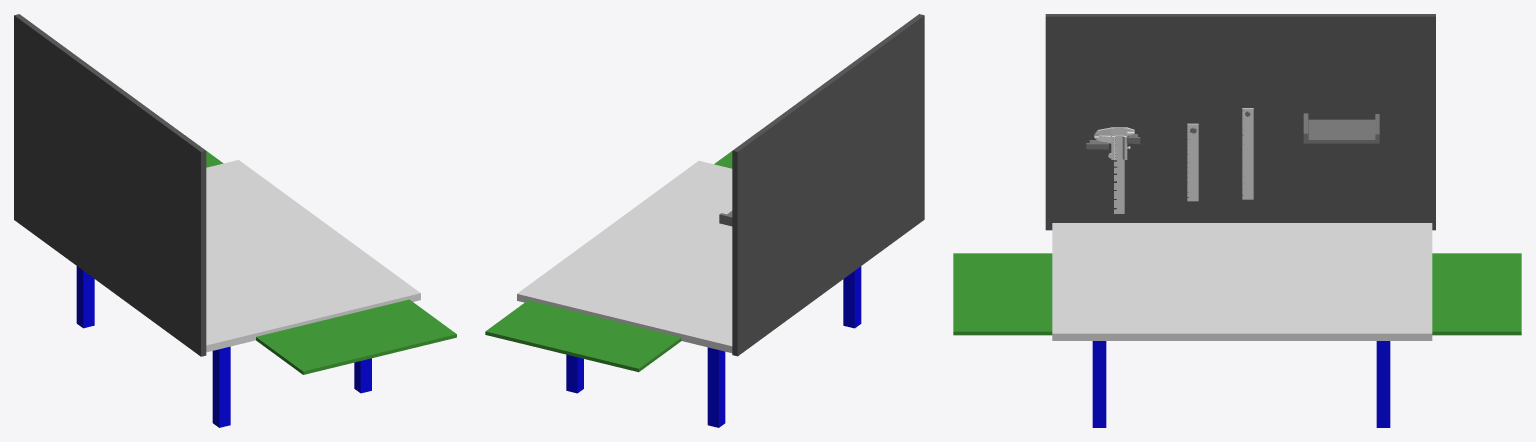
Rendered from verstak.fbx.
3 views of the same model, side by side, from view 1: azimuth 30°, elevation 25°; view 2: azimuth 150°, elevation 25°; view 3: azimuth 270°, elevation 25° (orthographic). The views are drawn at different scales.
Parts seen in each view (by area): view 1: Cube.005, Cube.004, Cube.001, Cube.002, Cube; view 2: Cube.005, Cube.004, Cube.002, Cube.001, Cube.003; view 3: Cube.005, Cube.004, Cube.006, Cube, Cube.003, Cube.007, Cube.008.
Part boxes in pixels (x1=…): Cube.005: x1=14, y1=14, x2=206, y2=356; Cube.004: x1=206, y1=151, x2=456, y2=374; Cube.001: x1=212, y1=346, x2=230, y2=427; Cube.002: x1=76, y1=266, x2=94, y2=328; Cube: x1=354, y1=358, x2=371, y2=393; Cube.005: x1=719, y1=14, x2=924, y2=356; Cube.004: x1=485, y1=151, x2=732, y2=372; Cube.002: x1=707, y1=347, x2=725, y2=427; Cube.001: x1=843, y1=266, x2=861, y2=328; Cube.003: x1=566, y1=354, x2=583, y2=393; Cube.005: x1=1045, y1=14, x2=1435, y2=230; Cube.004: x1=953, y1=223, x2=1521, y2=340; Cube.006: x1=1094, y1=127, x2=1134, y2=213; Cube: x1=1092, y1=341, x2=1106, y2=427; Cube.003: x1=1376, y1=341, x2=1390, y2=427; Cube.007: x1=1242, y1=108, x2=1253, y2=199; Cube.008: x1=1187, y1=123, x2=1198, y2=201.
Bounding box in the file's own units: 473 × 613 × 1001.
